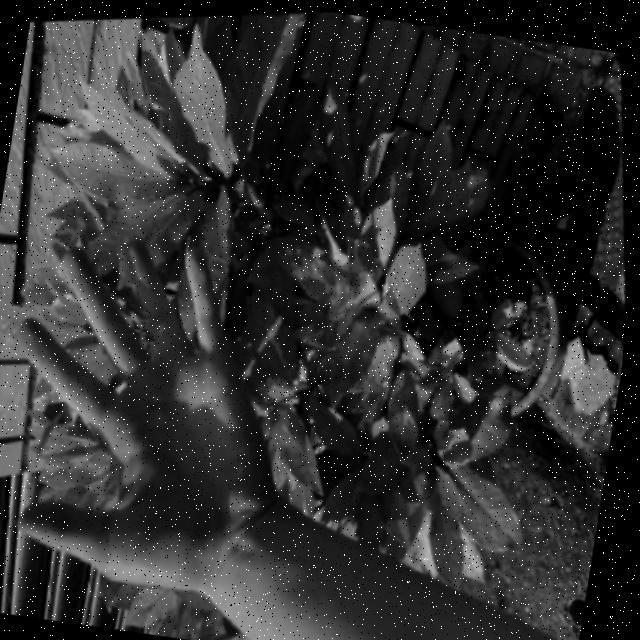no-gloves: (0, 173, 341, 640)
